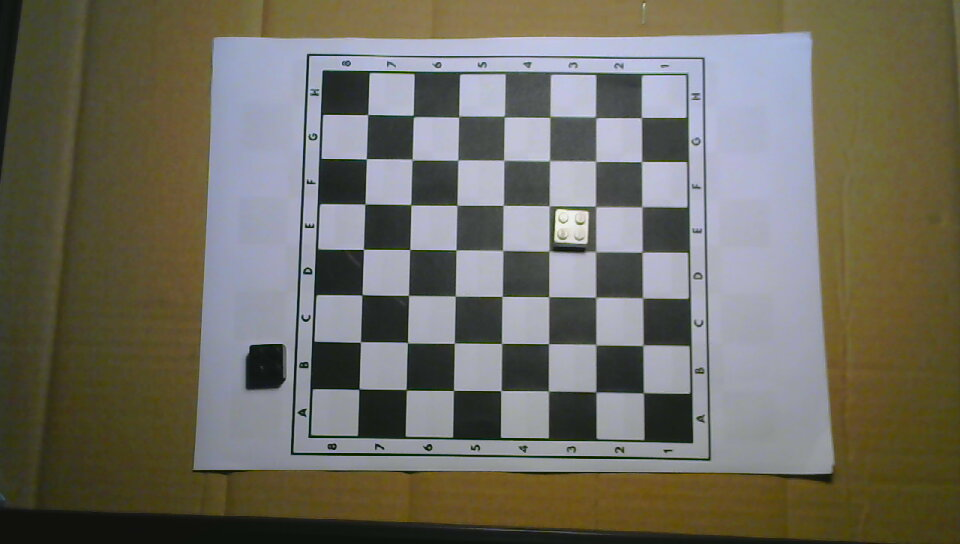bp: (248, 343, 287, 386)
wp: (553, 207, 589, 247)
